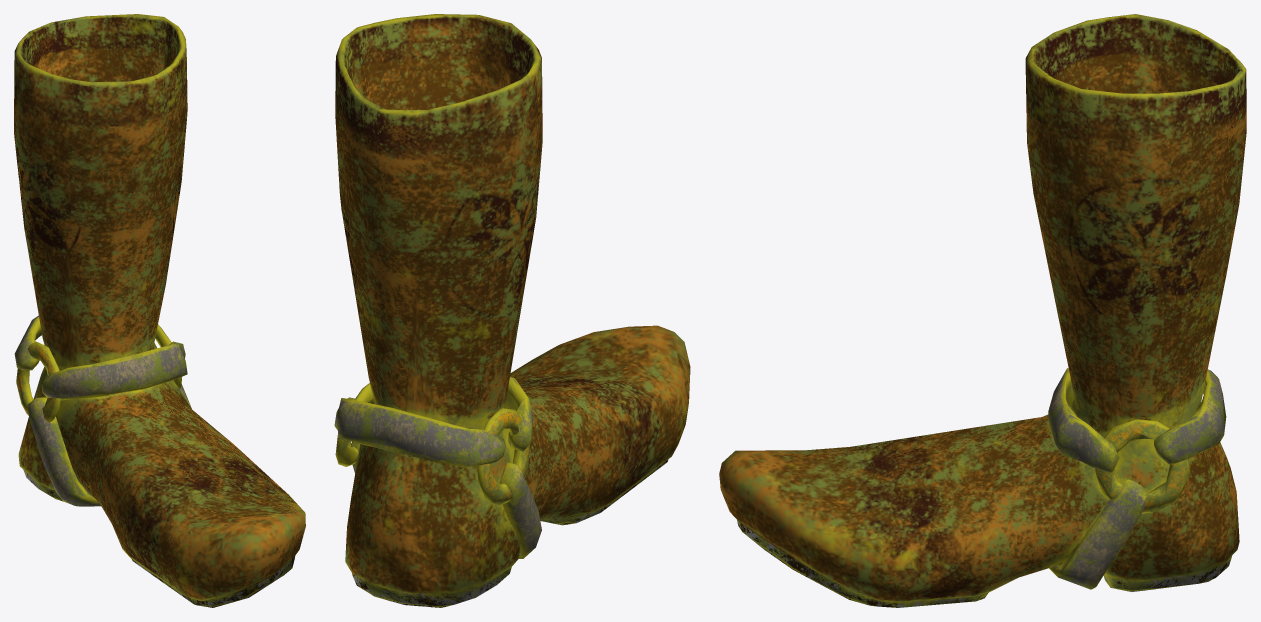
The model's file is Boot.fbx.
3 renders of one model, left to right at view 1: azimuth 30°, elevation 25°; view 2: azimuth 150°, elevation 25°; view 3: azimuth 270°, elevation 25°, orthographic. The views are drawn at different scales.
Parts seen in each view (by area): view 1: BootL; view 2: BootL; view 3: BootL.
Part boxes in pixels (x1=…): BootL: x1=14, y1=14, x2=305, y2=607; BootL: x1=334, y1=14, x2=690, y2=607; BootL: x1=719, y1=14, x2=1246, y2=607.
Size of the model in its own units: 11.25 by 28.7 by 26.61.
